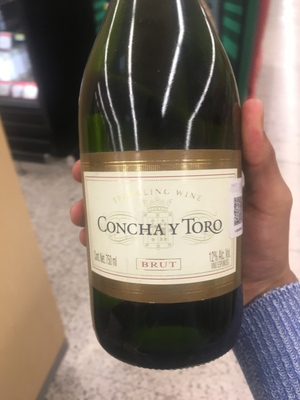brut: (75, 8, 265, 363)
